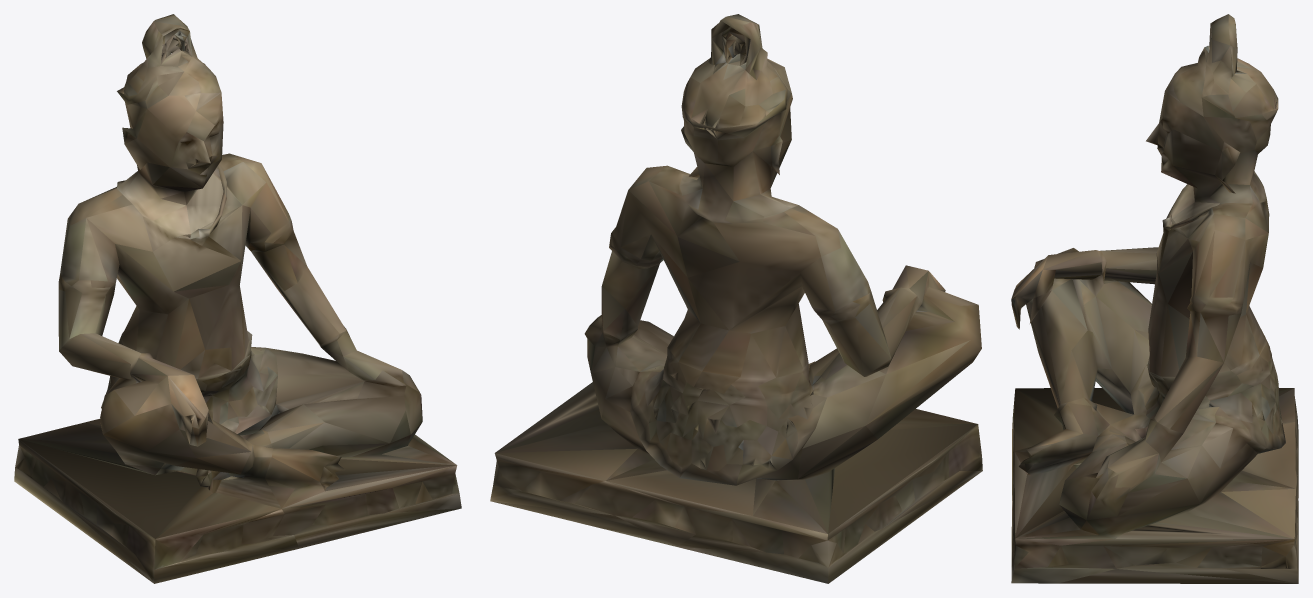
The model's file is far.glb.
The picture shows the model from 3 angles, left to right: view 1: azimuth 30°, elevation 25°; view 2: azimuth 150°, elevation 25°; view 3: azimuth 270°, elevation 25°; orthographic projection. The views are drawn at different scales.
Parts seen in each view (by area): view 1: statue-003; view 2: statue-003; view 3: statue-003.
Boxes of the visible parts, x1,y1,x2,y2 form: statue-003: (14,14,461,583); statue-003: (490,14,982,583); statue-003: (1011,14,1298,583).
Bounding box in the file's own units: 0.7588 × 0.9957 × 0.5523.
1 material, 1 textured.
